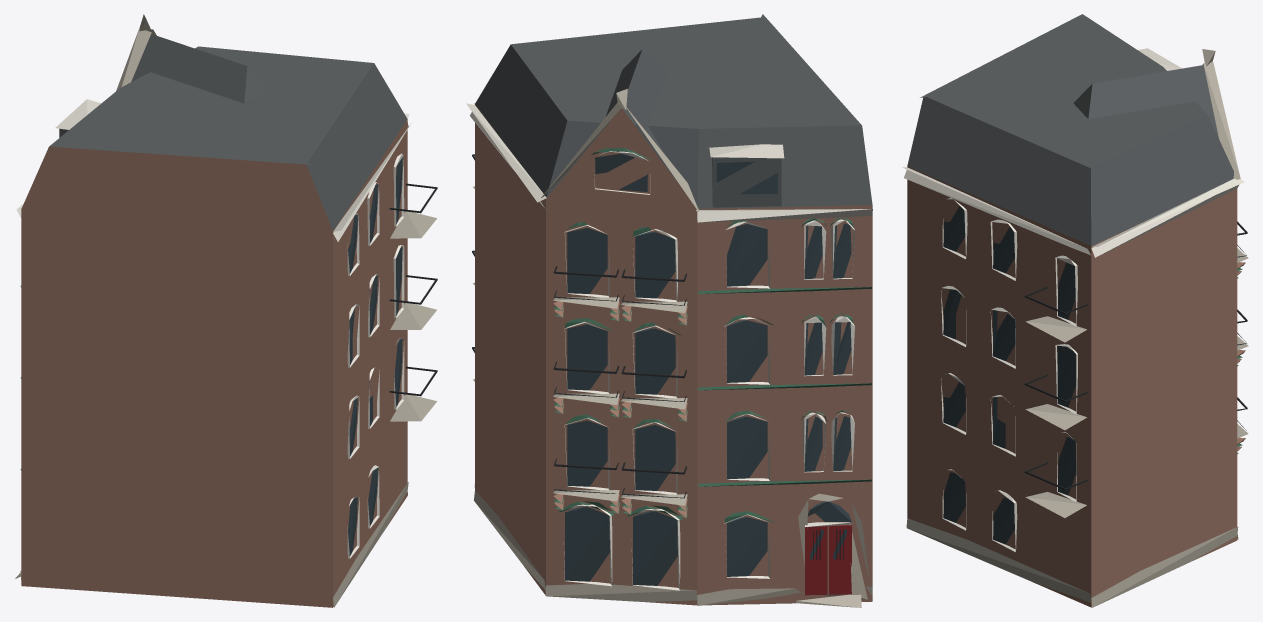
The model's file is da-costakade-13.lod1.glb.
The picture shows the model from 3 angles, left to right: view 1: azimuth 30°, elevation 25°; view 2: azimuth 150°, elevation 25°; view 3: azimuth 270°, elevation 25°; orthographic projection. The views are drawn at different scales.
Visible parts, largest first — view 1: da-costakade-13; view 2: da-costakade-13; view 3: da-costakade-13.
Part boxes in pixels (box(x1,y1,x2,y2)): da-costakade-13: box(15, 14, 437, 607); da-costakade-13: box(466, 14, 872, 607); da-costakade-13: box(902, 14, 1248, 607).
Size of the model in its own units: 15.59 by 17.95 by 12.2.
